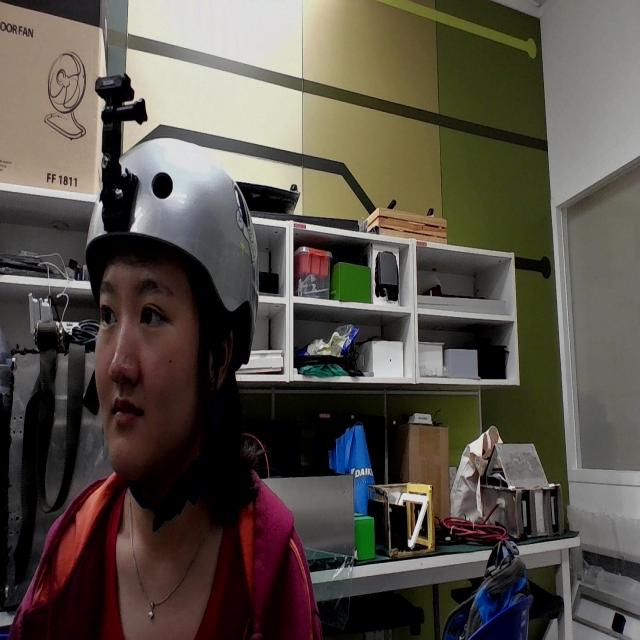With Helmet: (49, 49, 300, 486)
